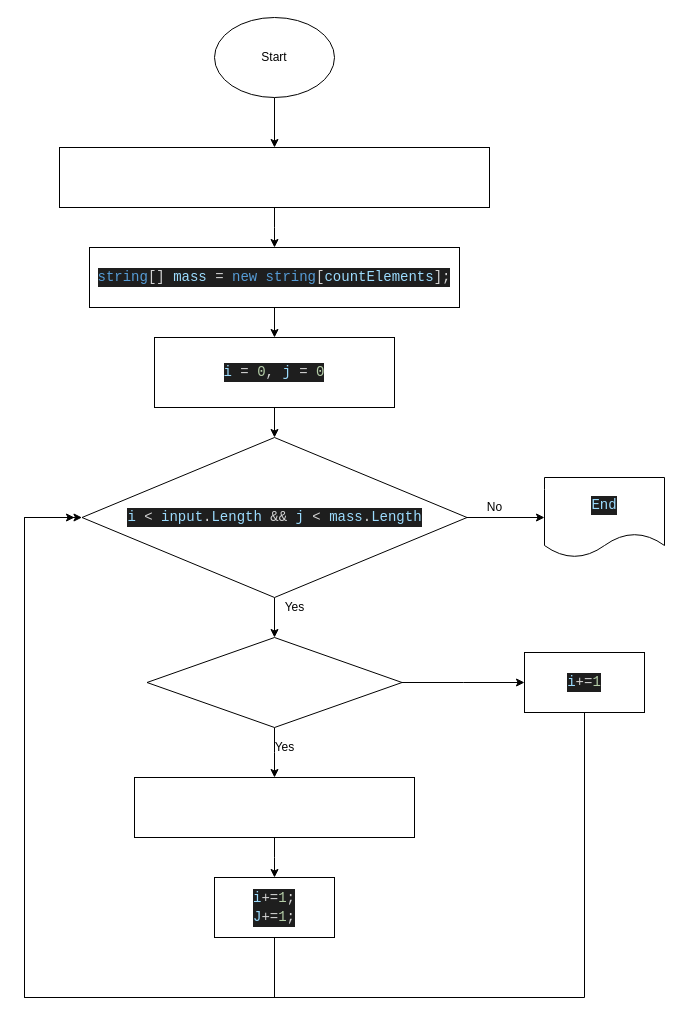
This 682x1023 diagram has some shape labels left out. Here are the shapes that lost their labels. From the top down, the centre of each, then its label:
the point at 274,177: string [] FillMass ( string [] input , int countElements )
the point at 274,682: input [ i ]. Length < 4 )
the point at 274,807: mass [ j ] = input [ i ]
